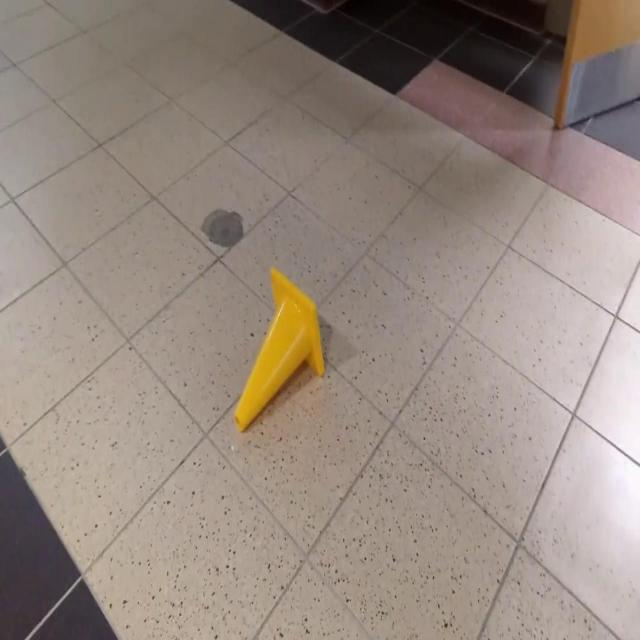frc_cone: (229, 268, 325, 431)
